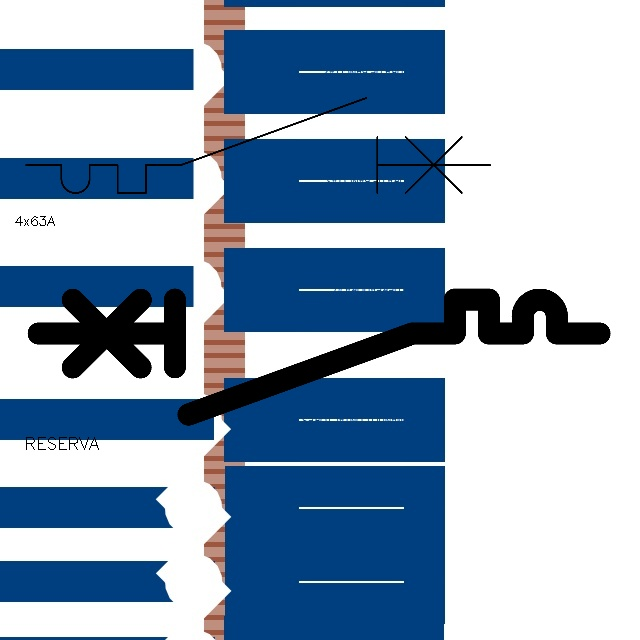interruptor_termomagnetico: (24, 285, 614, 429), (14, 86, 502, 205)
